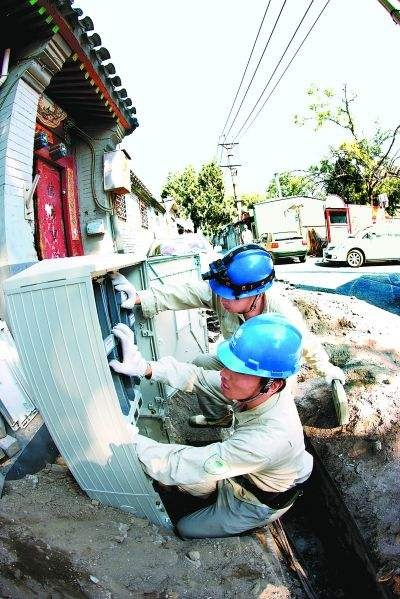blue: (213, 315, 303, 409), (202, 242, 276, 319)
